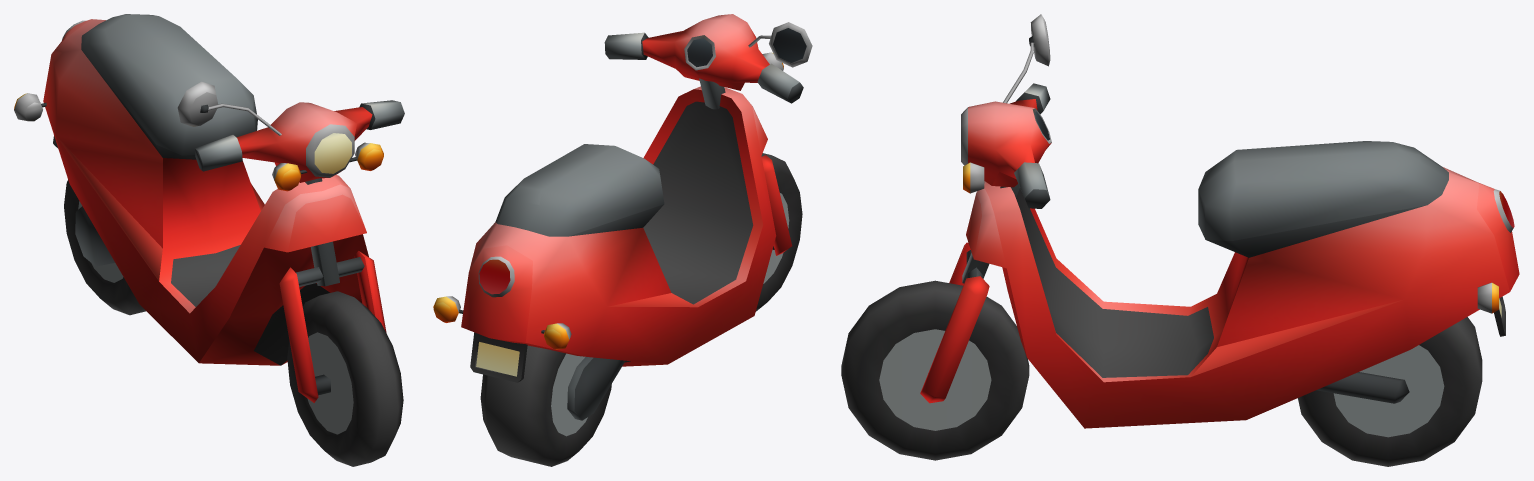
The model's file is Scooter_1C.fbx.
3 renders of one model, left to right at view 1: azimuth 30°, elevation 25°; view 2: azimuth 150°, elevation 25°; view 3: azimuth 270°, elevation 25°, orthographic. The views are drawn at different scales.
Visible parts, largest first — view 1: Scooter_1C_Body, Scooter_1C_Handlebars, Scooter_1C_Wheel.F, Scooter_1C_Wheel.R; view 2: Scooter_1C_Body, Scooter_1C_Handlebars, Scooter_1C_Wheel.R, Scooter_1C_Wheel.F; view 3: Scooter_1C_Body, Scooter_1C_Wheel.F, Scooter_1C_Wheel.R, Scooter_1C_Handlebars.
Part boxes in pixels (box(x1,y1,x2,y2)): Scooter_1C_Body: box(14, 14, 368, 365); Scooter_1C_Handlebars: box(177, 81, 404, 402); Scooter_1C_Wheel.F: box(287, 291, 403, 466); Scooter_1C_Wheel.R: box(64, 180, 145, 315); Scooter_1C_Body: box(433, 86, 776, 420); Scooter_1C_Handlebars: box(604, 14, 812, 255); Scooter_1C_Wheel.R: box(480, 345, 611, 466); Scooter_1C_Wheel.F: box(755, 153, 802, 311); Scooter_1C_Body: box(966, 141, 1519, 428); Scooter_1C_Wheel.F: box(841, 280, 1029, 460); Scooter_1C_Wheel.R: box(1298, 317, 1482, 466); Scooter_1C_Handlebars: box(920, 14, 1051, 403).
Bounding box in the file's own units: 1.05 × 1.66 × 2.61.
